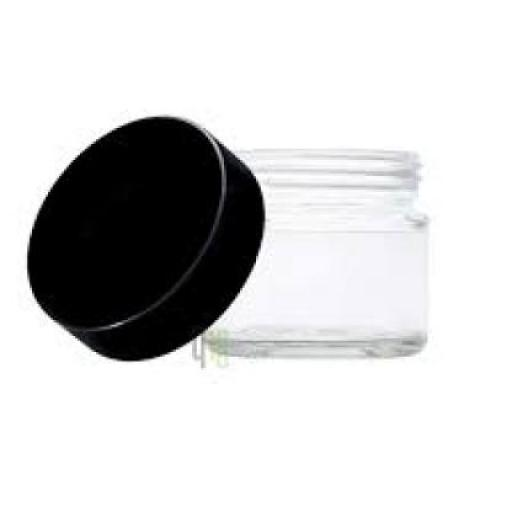glass: (208, 149, 430, 354)
plastic: (30, 114, 264, 360)
